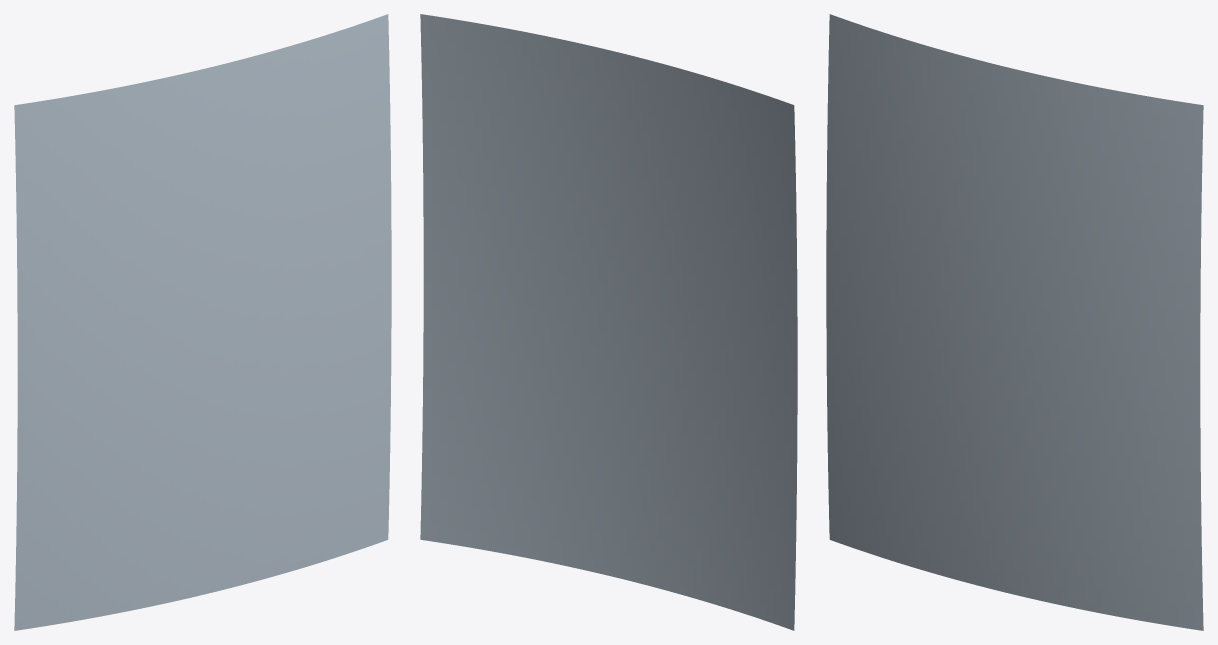
File: Xinyan_SweepingFervorShield_Overall_PublicPyroMembrane.fbx
The picture shows the model from 3 angles, left to right: view 1: azimuth 30°, elevation 25°; view 2: azimuth 150°, elevation 25°; view 3: azimuth 330°, elevation 25°; orthographic projection.
Parts seen in each view (by area): view 1: PART_ProjectPSDShieldPyroMembrane; view 2: PART_ProjectPSDShieldPyroMembrane; view 3: PART_ProjectPSDShieldPyroMembrane.
Part boxes in pixels (x1,y1,x2,y2): PART_ProjectPSDShieldPyroMembrane: (14, 14, 391, 630); PART_ProjectPSDShieldPyroMembrane: (420, 14, 797, 630); PART_ProjectPSDShieldPyroMembrane: (826, 14, 1203, 630).
Bounding box in the file's own units: 297 × 399 × 18.5.
